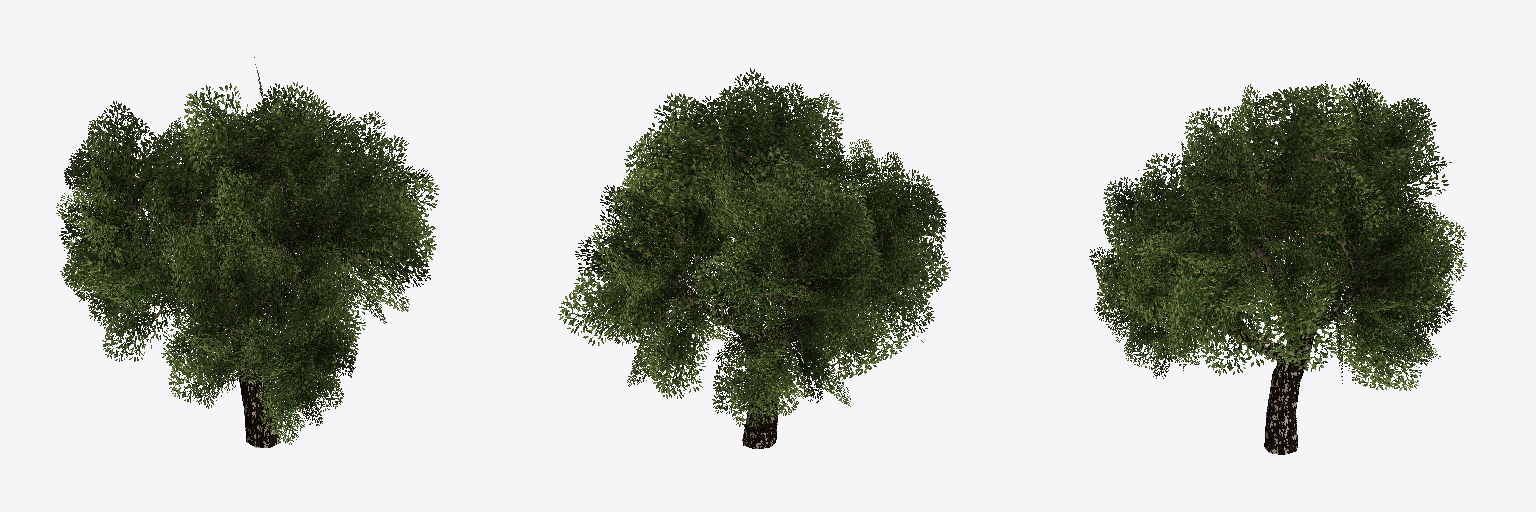
3 renders of one model, left to right at view 1: azimuth 30°, elevation 25°; view 2: azimuth 150°, elevation 25°; view 3: azimuth 270°, elevation 25°, orthographic.
Visible parts, largest first — view 1: Leaves1, Trunk1; view 2: Leaves1, Trunk1; view 3: Leaves1, Trunk1, Trunk3, Trunk11.
Part boxes in pixels (bbox=[...]): Leaves1: bbox=[56, 57, 439, 444]; Trunk1: bbox=[142, 173, 300, 447]; Leaves1: bbox=[558, 68, 950, 427]; Trunk1: bbox=[672, 162, 794, 448]; Leaves1: bbox=[1089, 78, 1466, 390]; Trunk1: bbox=[1198, 180, 1364, 454]; Trunk3: bbox=[1210, 180, 1359, 454]; Trunk11: bbox=[1197, 228, 1350, 454].
Bounding box in the file's own units: 45.85 × 48.31 × 46.18.
Materials: 4 (3 with a texture image).